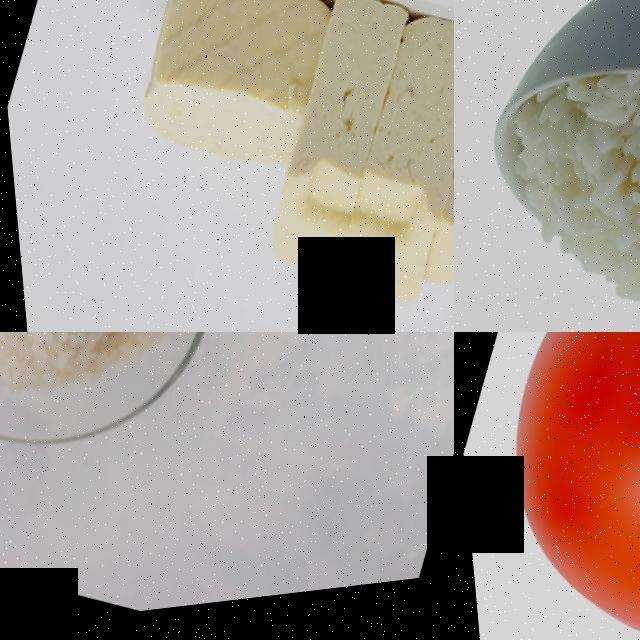tofu: (110, 0, 347, 196), (255, 0, 423, 237), (327, 8, 454, 256), (399, 33, 454, 315)
tomato: (454, 332, 640, 640)
white rice: (479, 48, 640, 332)
